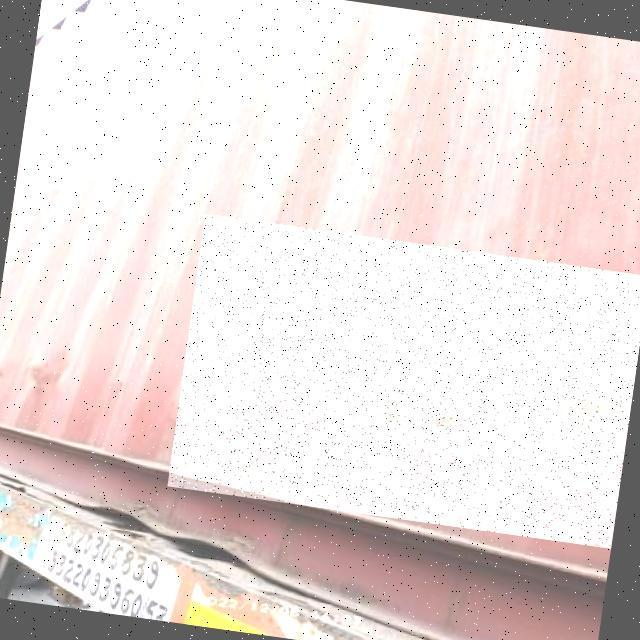Dent: (167, 214, 640, 549)
